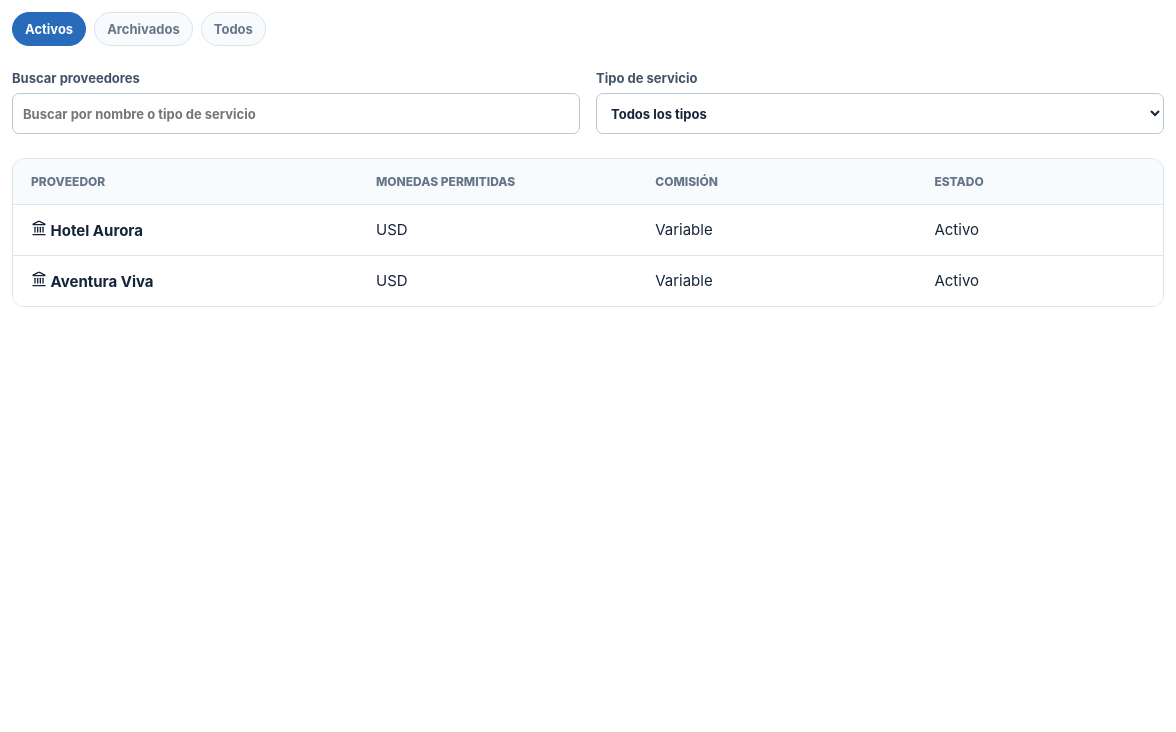
Scenario: ProviderList › filters providers by service type and a name search without hiding archived records controls
Select "Hoteles" in the dropdown labelled "Tipo de servicio" at point(880, 114), box [596,93,1164,134]
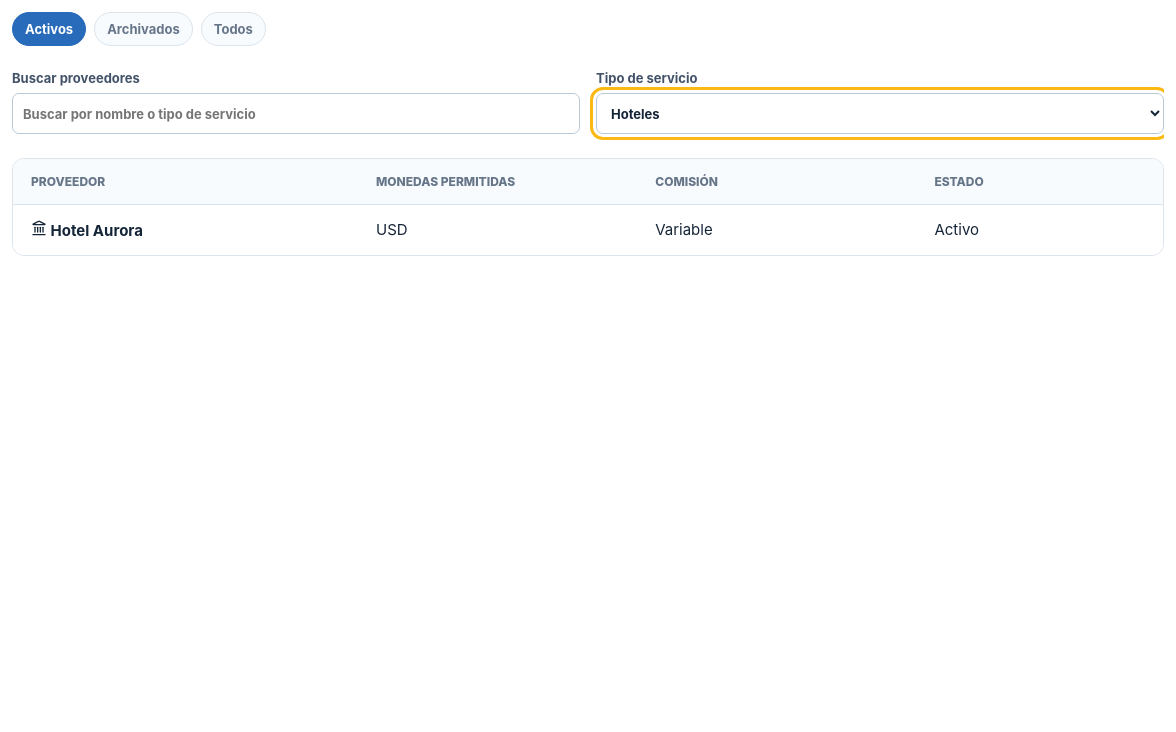
Expected: the text "Hotel Aurora" is shown, [31,220,143,240]
Now the button "Aventura Viva" is gone
Type "no coincide" into the field labelled "Buscar proveedores".
click(296, 114); type("no coincide")  # box [12,93,580,134]
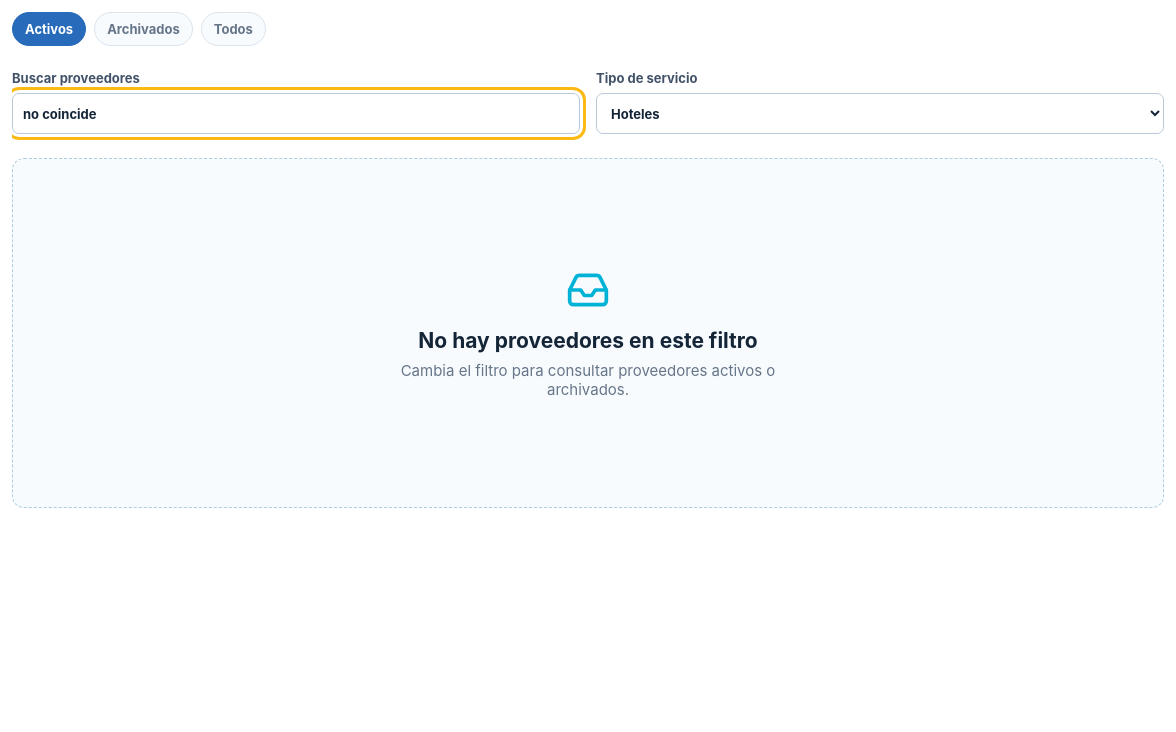
Expected: the button "Archivados" is shown, [94,12,193,46]
Now the heading "No hay proveedores en este filtro" is shown, box [418,328,758,352]
